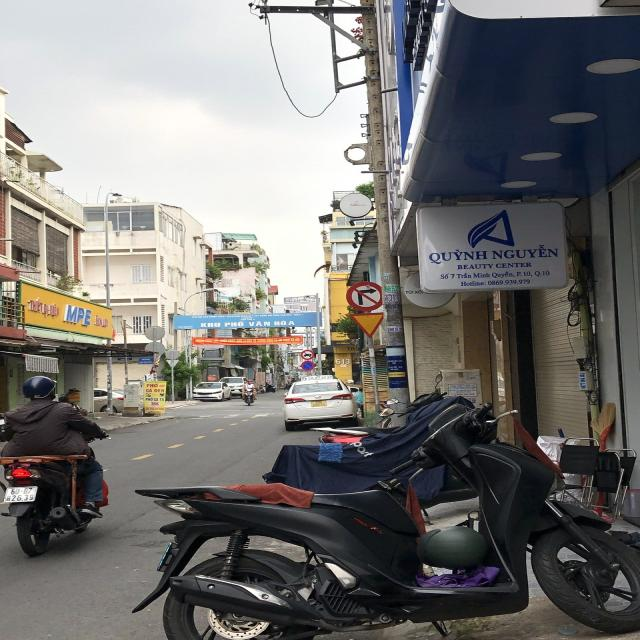Bien bao cam re phai: (343, 279, 388, 312)
Bien bao giao nhau voi duong uu tien: (344, 311, 392, 338)
